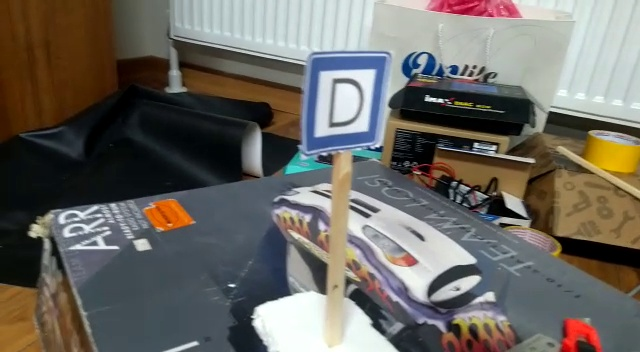durak: (298, 55, 389, 150)
